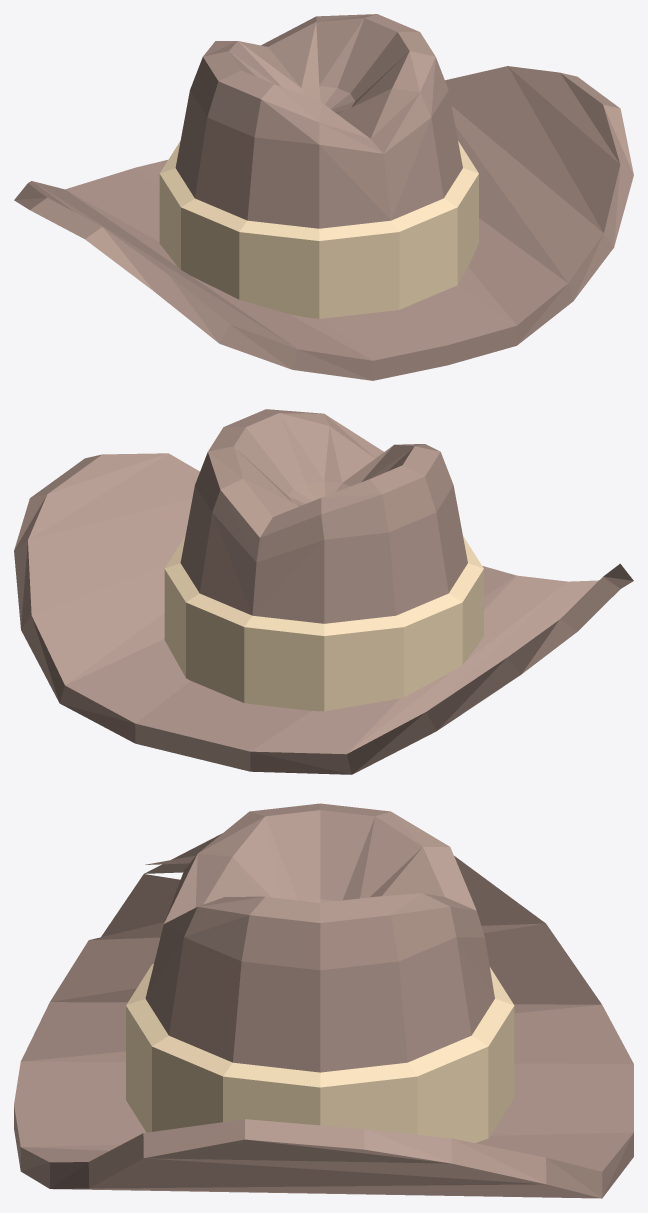
Rendered from chapeau.glb.
3 views of the same model, one above another, from view 1: azimuth 30°, elevation 25°; view 2: azimuth 150°, elevation 25°; view 3: azimuth 270°, elevation 25° (orthographic). The views are drawn at different scales.
Parts seen in each view (by area): view 1: mesh730590407; view 2: mesh730590407; view 3: mesh730590407.
Part boxes in pixels (x1,y1,x2,y2): mesh730590407: (14,14,633,380); mesh730590407: (14,409,633,774); mesh730590407: (14,803,633,1198).
Size of the model in its own units: 0.7689 by 0.2988 by 0.62.
